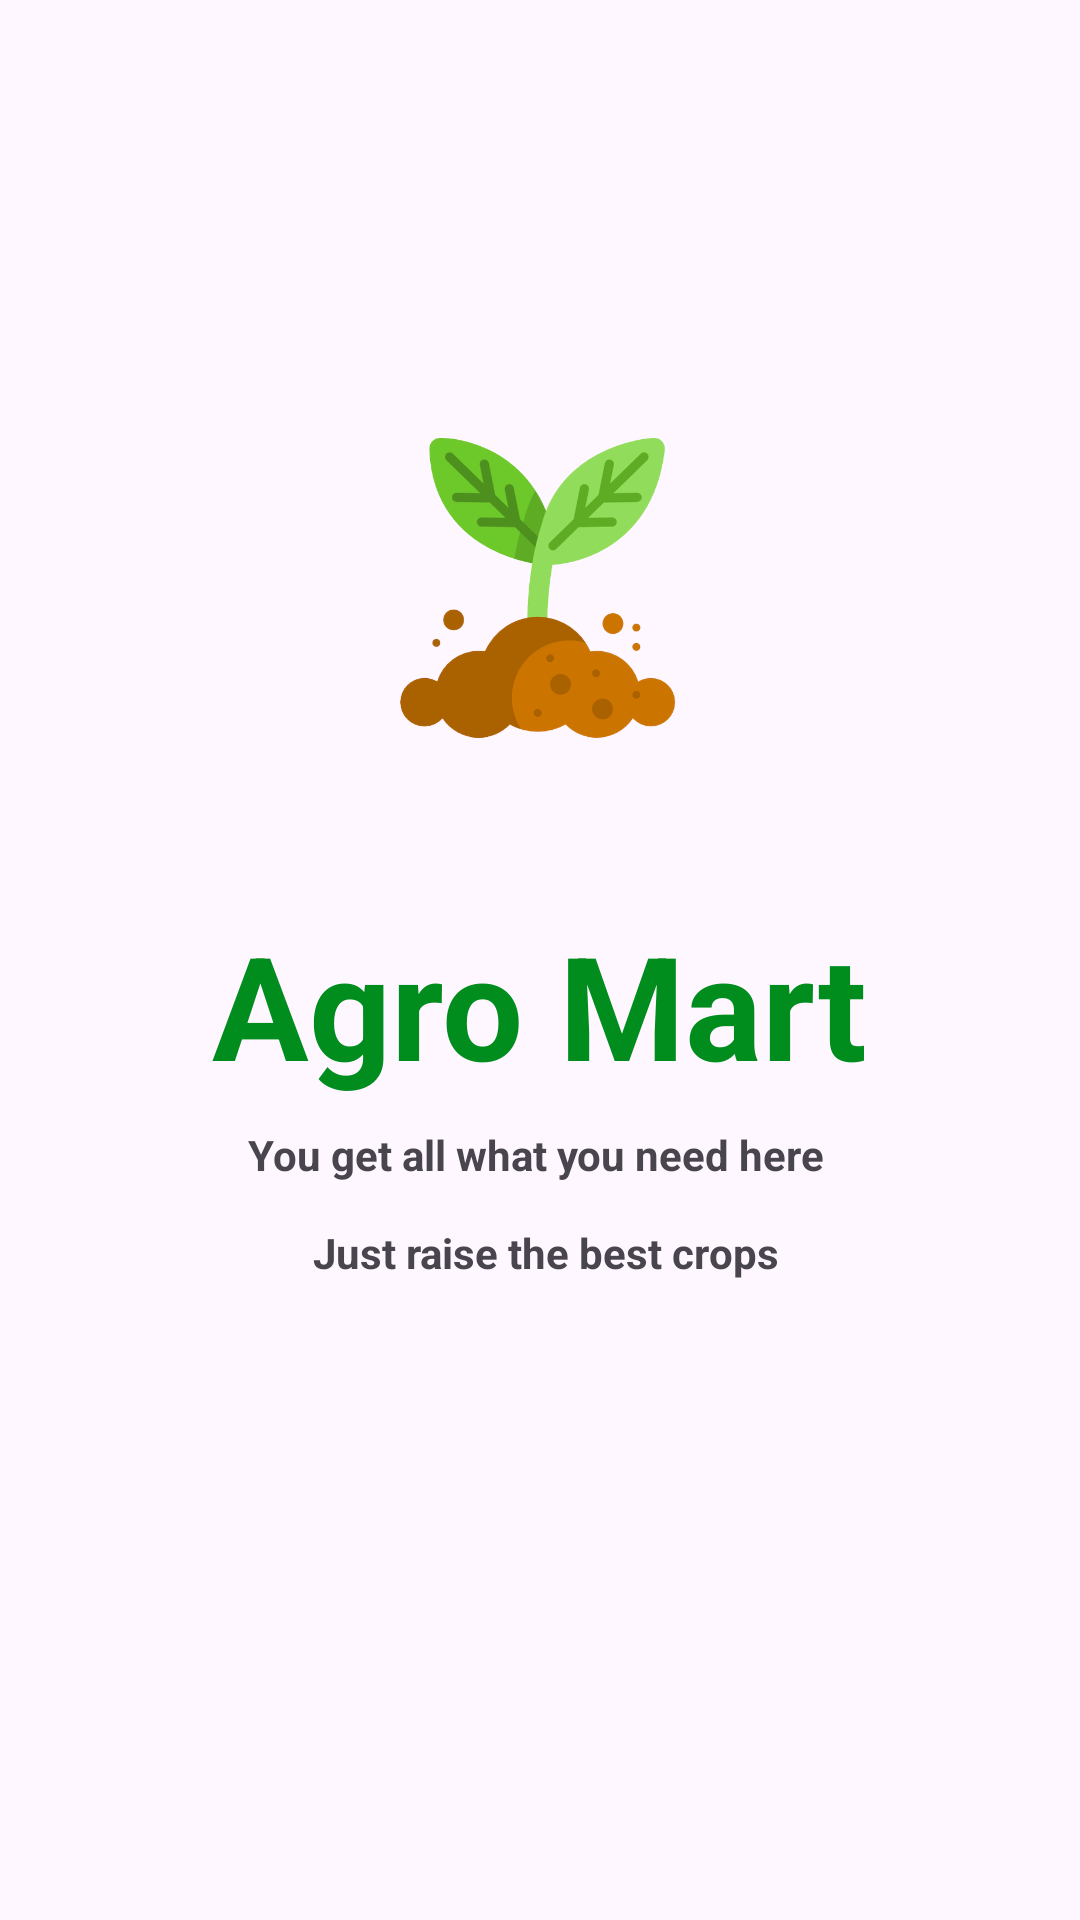

Named icons in this screenshot (1080px×1920px) and their centers, [x,y]:
sprout: [537,588]
